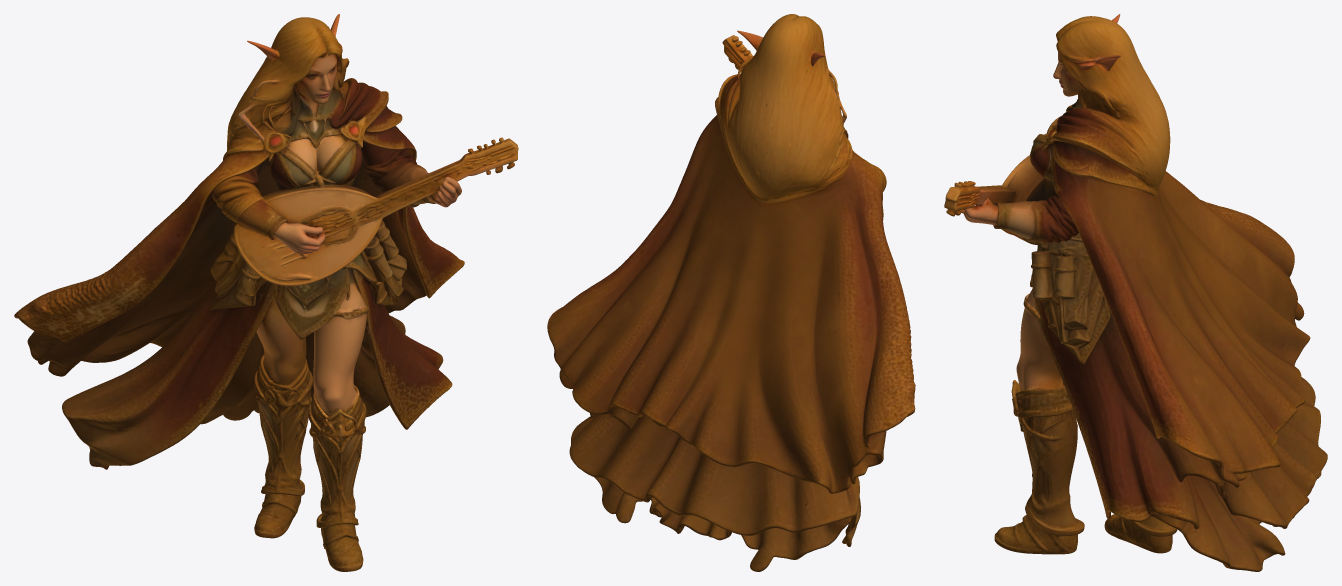
File: elf_bard_full_female_01.glb
The picture shows the model from 3 angles, left to right: view 1: azimuth 30°, elevation 25°; view 2: azimuth 150°, elevation 25°; view 3: azimuth 270°, elevation 25°; orthographic projection. The views are drawn at different scales.
Parts seen in each view (by area): view 1: material; view 2: material; view 3: material.
Boxes of the visible parts, box(x1,y1,x2,y2) form: material: box(14, 14, 518, 571); material: box(547, 14, 915, 571); material: box(944, 14, 1327, 571).
Bounding box in the file's own units: 0.8845 × 1.06 × 0.7016.
1 material, 1 textured.
